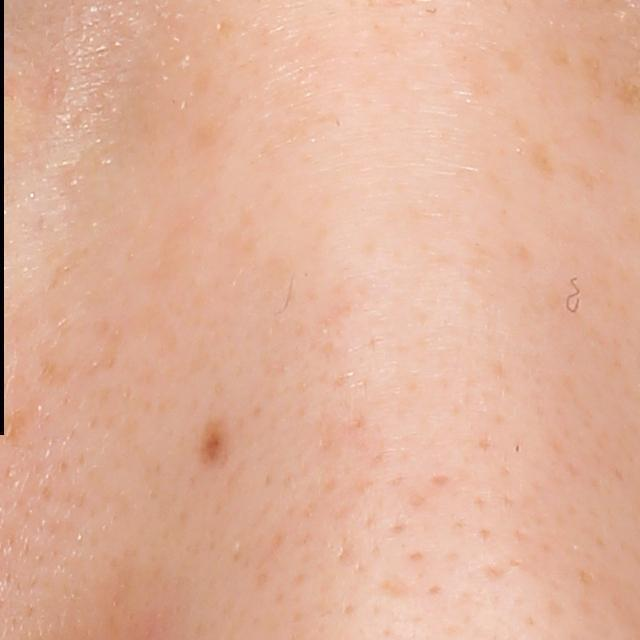melasma: (195, 414, 234, 475), (566, 160, 602, 198), (520, 142, 555, 181), (545, 45, 572, 77)
